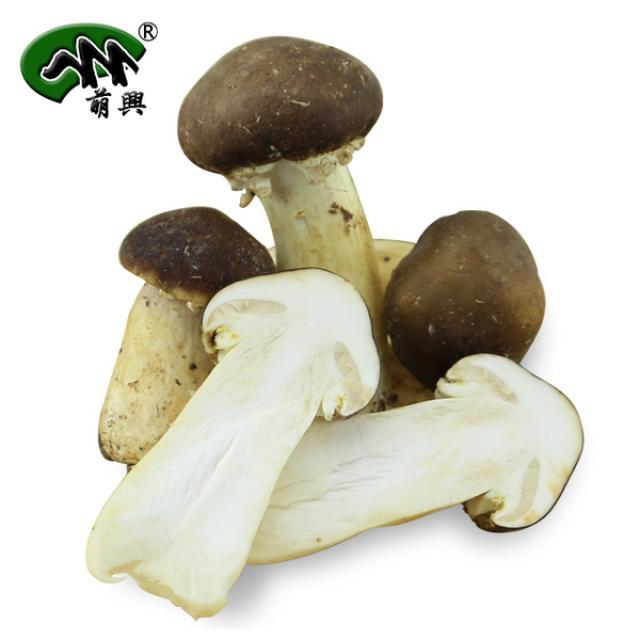Agaricus blazei Murill: (89, 264, 374, 632), (206, 351, 586, 580), (182, 35, 409, 387), (101, 206, 268, 463)
